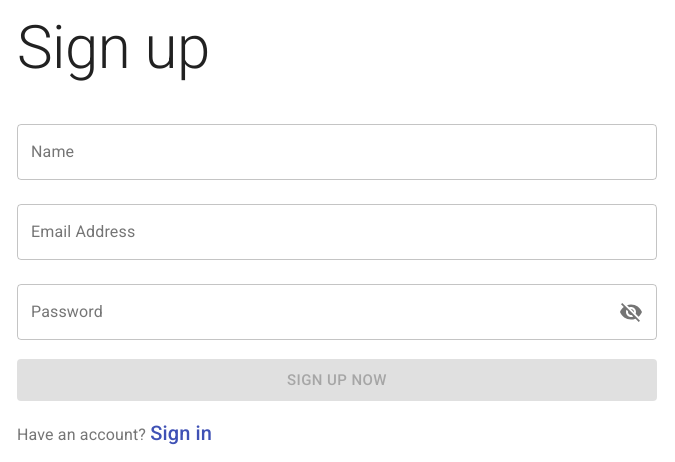
register: after entering a value in name, email & password the button should be enabled
Type "ayman" into the field next to "Name" at (337, 152), box [17,124,657,180]
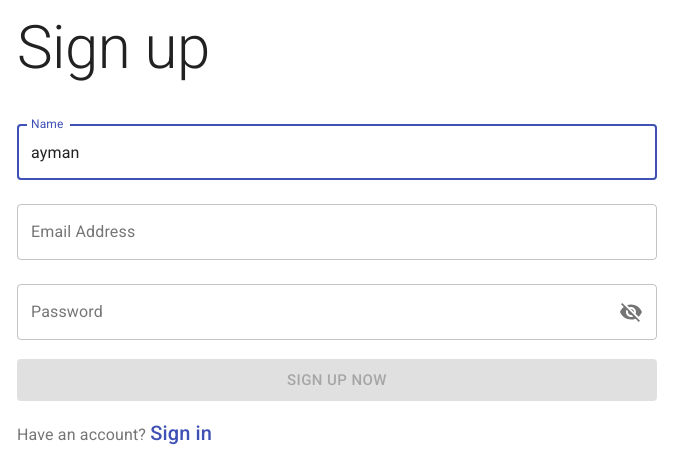
Type "aw@tt.com" into the field next to "Email Address" at (337, 232), box [17,204,657,260]
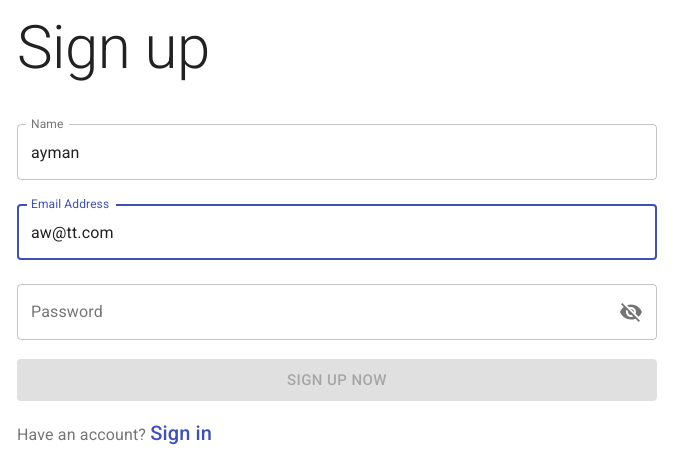
Type "12345" into the password field labelled "Password" at (308, 312), box [17,284,599,340]
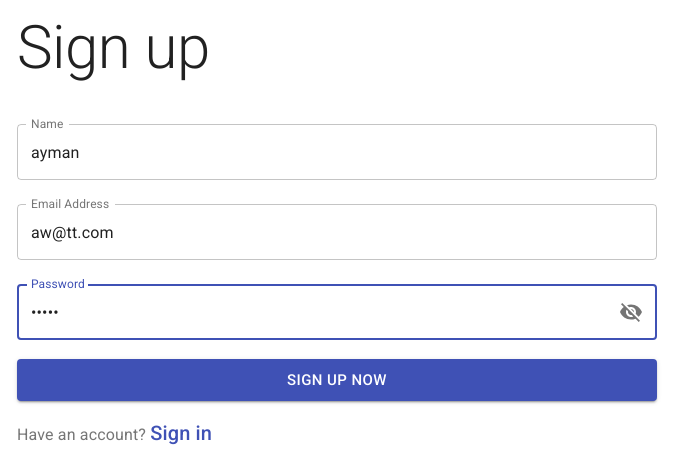
Expected: the button "Sign up now" is enabled, [17,359,657,401]
